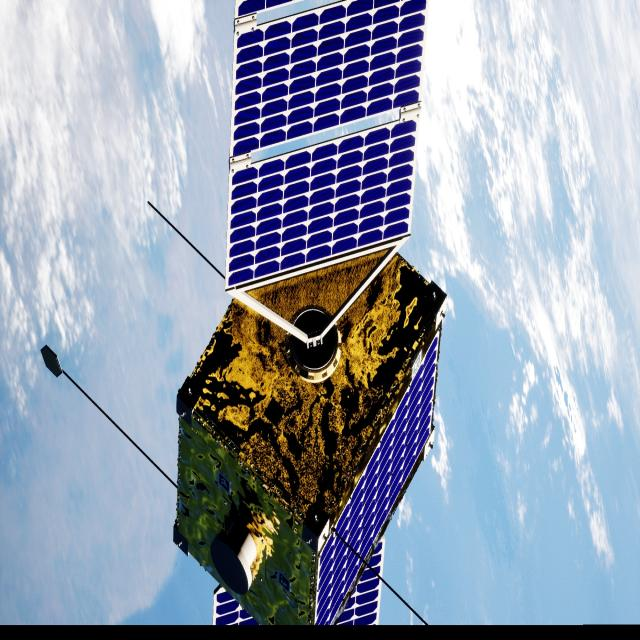medium_debris: (173, 0, 452, 626)
